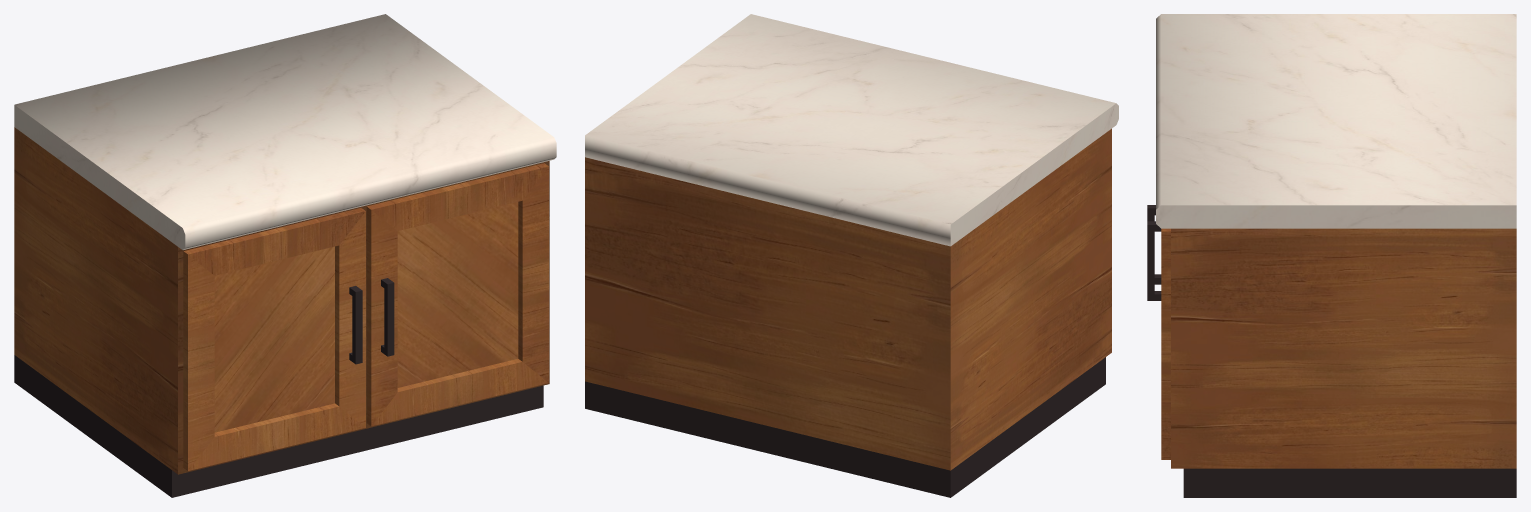
The model's file is Counter.glb.
3 renders of one model, left to right at view 1: azimuth 30°, elevation 25°; view 2: azimuth 150°, elevation 25°; view 3: azimuth 270°, elevation 25°, orthographic. The views are drawn at different scales.
Visible parts, largest first — view 1: Counter; view 2: Counter; view 3: Counter.
Boxes of the visible parts, x1,y1,x2,y2 form: Counter: [14, 14, 556, 497]; Counter: [585, 14, 1118, 497]; Counter: [1147, 14, 1516, 497].
Size of what is drawn, in the model's own units: 1.4 by 1 by 1.14.
4 materials, 4 textured.
